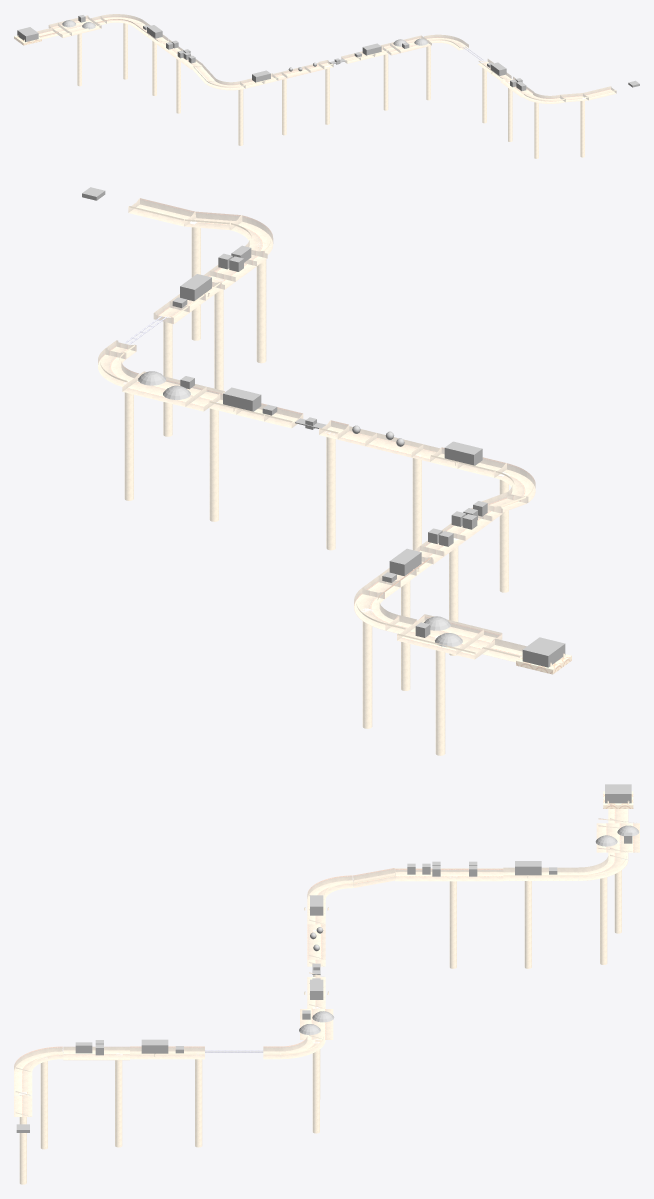
Rendered from level.gltf.
3 renders of one model, top to bottom at view 1: azimuth 30°, elevation 25°; view 2: azimuth 150°, elevation 25°; view 3: azimuth 270°, elevation 25°, orthographic. The views are drawn at different scales.
Visible parts, largest first — view 1: Floor_005, Floor_003, Column_005, Column_008, Floor_026, Floor_034, Floor_014, Column_007, Column_013, Column_002, Column_006, Column_012 (+10 smaller); view 2: Floor_003, Column_002, Column_001, Column_007, Column_008, Floor_005, Column_012, Column_009, Floor_036, Floor_025, Column_011, Floor_034 (+9 smaller); view 3: Floor_034, Floor_005, Column_010, Column_011, Column_004, Column_012, Column_002, Column_003, Column_009, Floor_003, Floor_014, Floor_026 (+1 smaller).
Boxes of the visible parts, x1,y1,x2,y2 form: Floor_005: (101, 14, 144, 26); Floor_003: (58, 15, 101, 35); Column_005: (238, 85, 243, 145); Column_008: (383, 54, 388, 110); Floor_026: (424, 34, 463, 46); Floor_034: (523, 92, 565, 103); Floor_014: (206, 78, 245, 90); Column_007: (325, 64, 330, 124); Column_013: (580, 98, 585, 157); Column_002: (123, 19, 127, 79); Column_006: (281, 76, 286, 135); Column_012: (534, 100, 538, 158); Floor_003: (397, 614, 483, 654); Column_002: (361, 608, 373, 728); Column_001: (434, 635, 445, 755); Column_007: (325, 431, 335, 550); Column_008: (209, 401, 219, 521); Floor_005: (354, 587, 399, 630); Column_012: (256, 242, 266, 363); Column_009: (123, 380, 133, 500); Floor_036: (128, 198, 195, 226); Floor_025: (122, 371, 205, 406); Column_011: (214, 278, 224, 390); Floor_034: (229, 215, 273, 255); Floor_034: (14, 1046, 63, 1072); Floor_005: (577, 854, 628, 880); Column_010: (195, 1053, 202, 1147); Column_011: (114, 1053, 123, 1147); Column_004: (449, 875, 457, 968); Column_012: (40, 1056, 48, 1149); Column_002: (600, 871, 607, 964); Column_003: (524, 881, 531, 968); Column_009: (312, 1039, 319, 1133); Floor_003: (596, 830, 639, 852); Floor_014: (307, 875, 353, 899); Floor_026: (279, 1034, 325, 1059).
Bounding box in the file's own units: 464 × 76.93 × 376.
7 materials, 7 textured.
